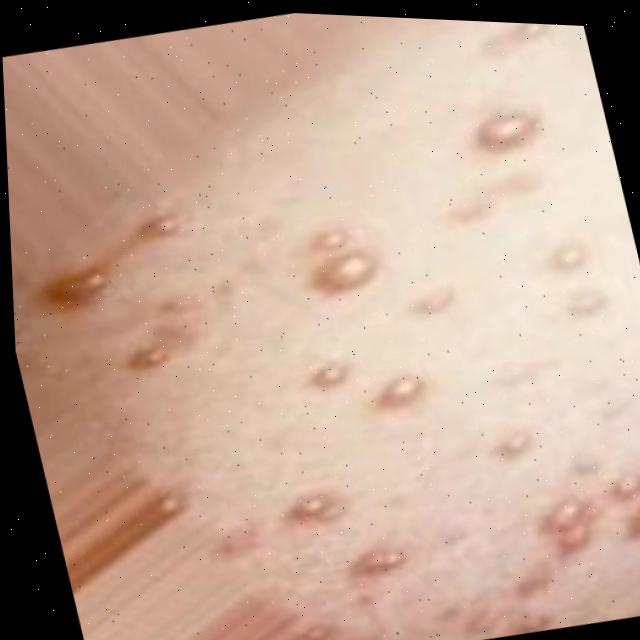Shingles: (533, 461, 640, 568), (303, 212, 379, 308), (478, 21, 555, 62), (480, 105, 542, 154), (55, 268, 119, 310), (356, 538, 413, 580), (561, 289, 611, 327), (291, 492, 340, 528), (309, 356, 352, 395), (492, 426, 535, 464), (374, 374, 418, 410), (143, 210, 183, 248), (133, 335, 171, 368), (418, 285, 456, 317), (151, 487, 185, 514), (550, 248, 584, 274)
